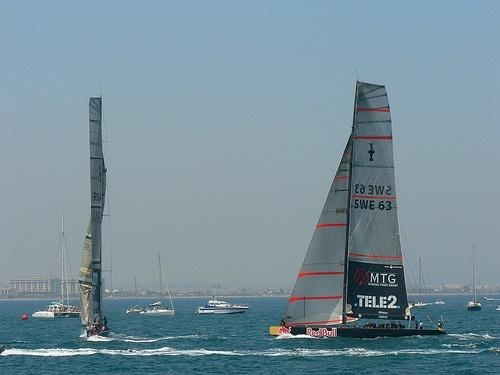boat: (272, 82, 451, 340), (79, 99, 112, 340), (33, 213, 81, 317), (139, 252, 175, 315), (407, 259, 446, 308), (468, 247, 482, 311), (196, 298, 252, 314)
